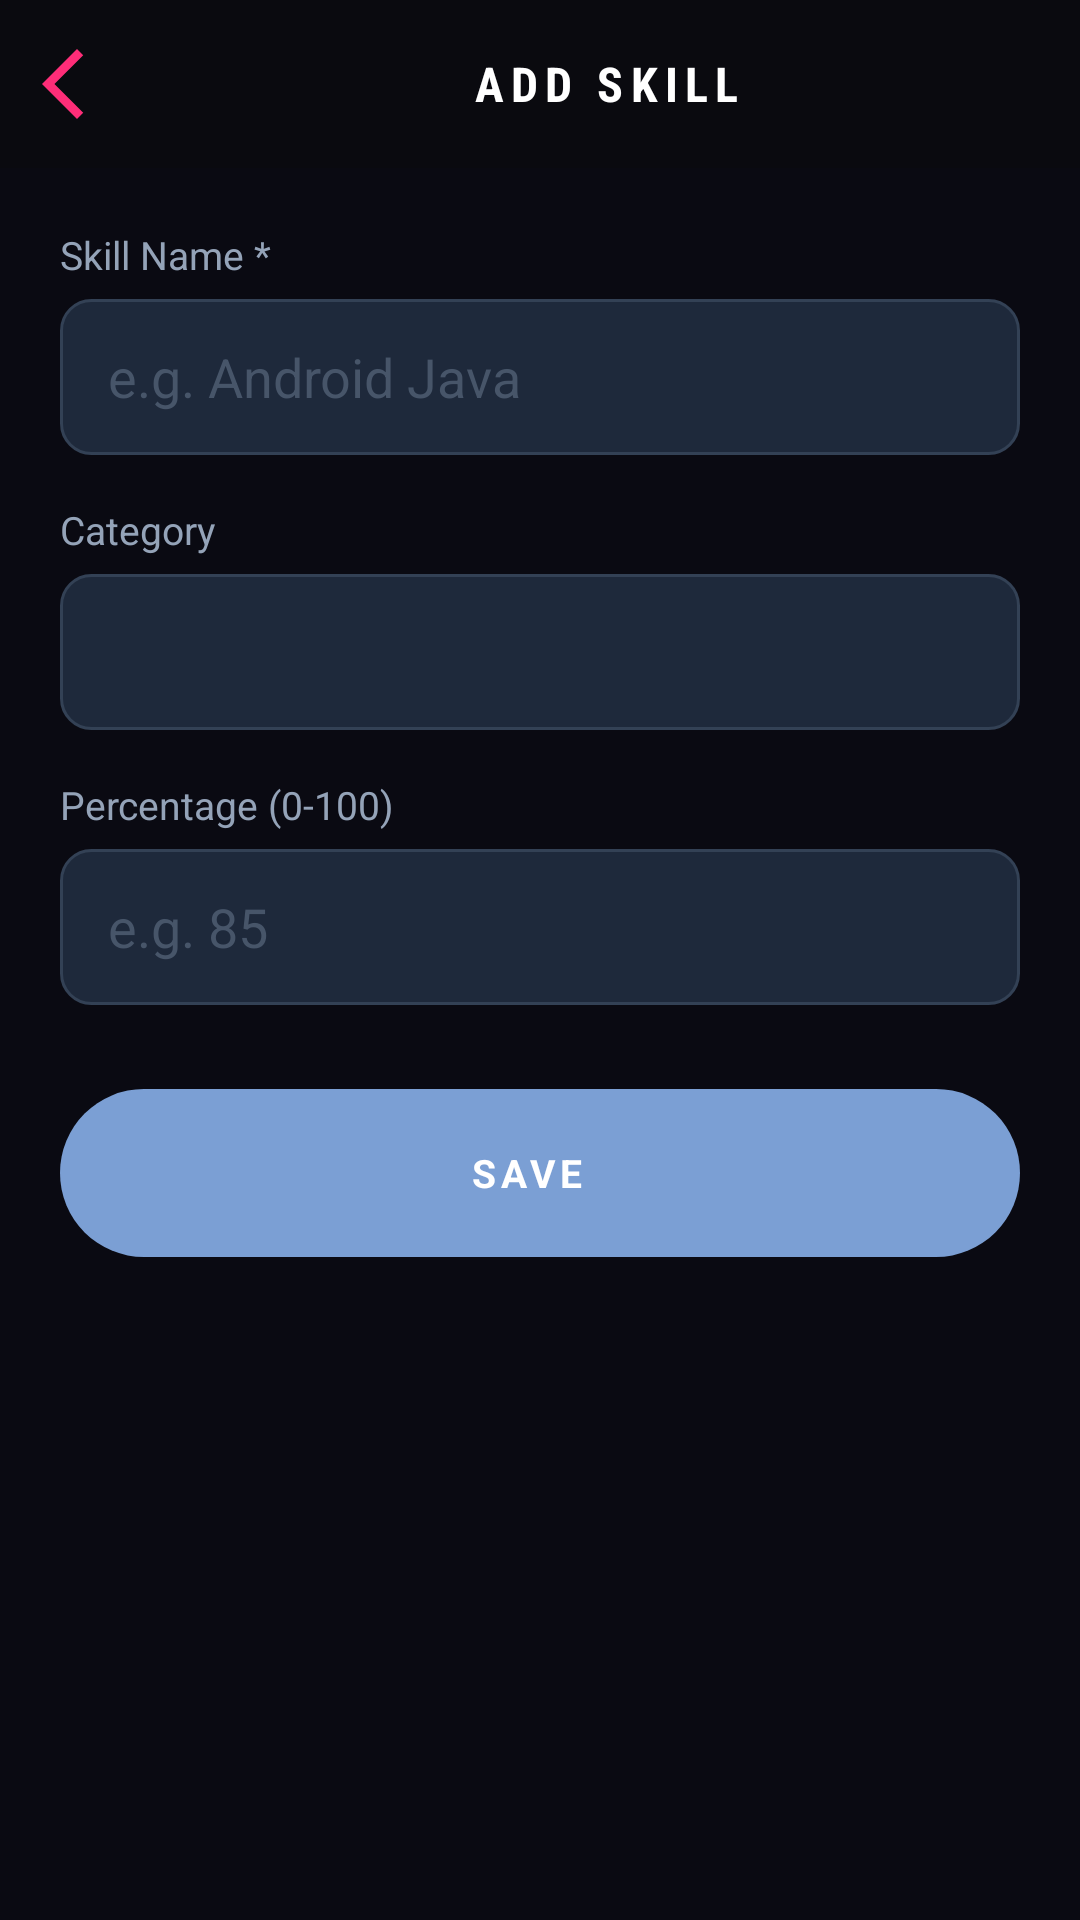

Where icons sit on this 1080*1920 app screen, as (x1, y1, x2, y2):
arrow back: (42, 49, 83, 119)
